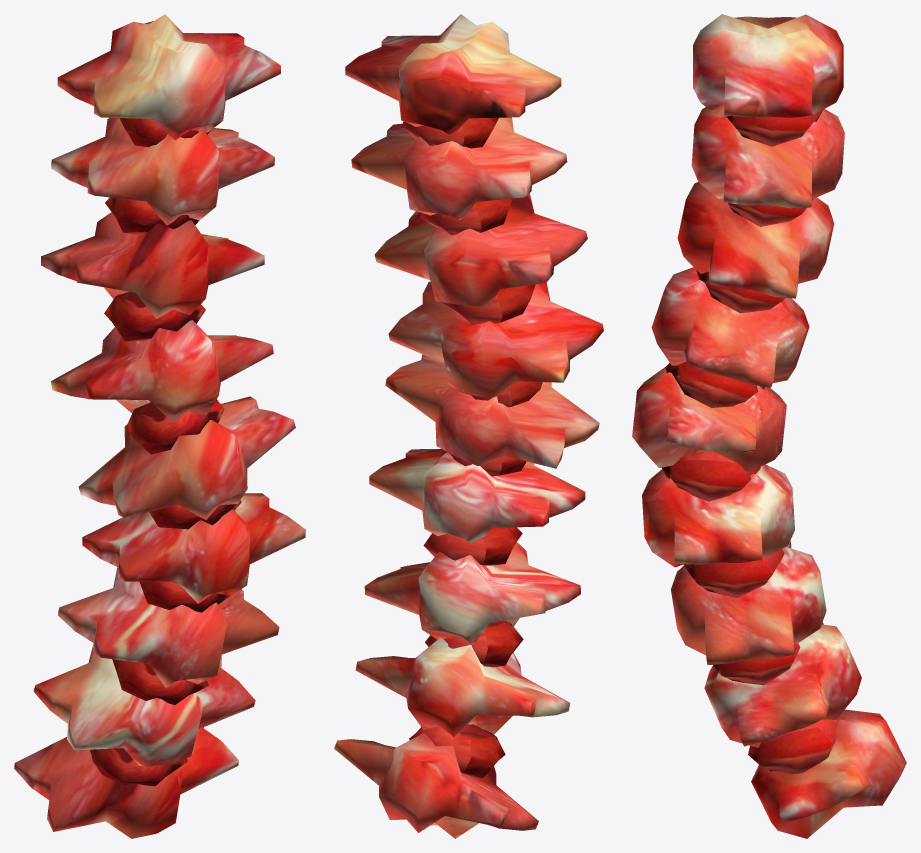
Rendered from female_spine.fbx.
3 views of the same model, side by side, from view 1: azimuth 30°, elevation 25°; view 2: azimuth 150°, elevation 25°; view 3: azimuth 270°, elevation 25° (orthographic). The views are drawn at different scales.
Parts seen in each view (by area): view 1: fm_spine; view 2: fm_spine; view 3: fm_spine.
Part boxes in pixels (x1=…): fm_spine: x1=14, y1=14, x2=305, y2=838; fm_spine: x1=334, y1=14, x2=603, y2=838; fm_spine: x1=632, y1=14, x2=906, y2=838.
Size of the model in its own units: 0.0988 by 0.3732 by 0.1138.
